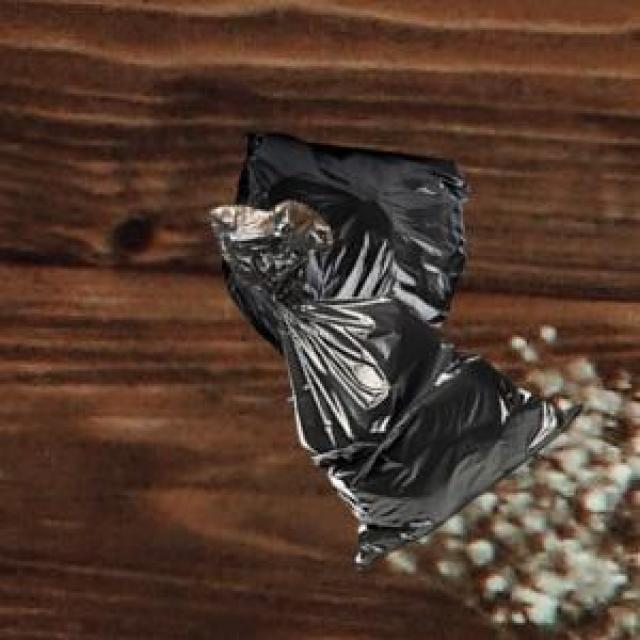waste: (211, 138, 579, 562)
